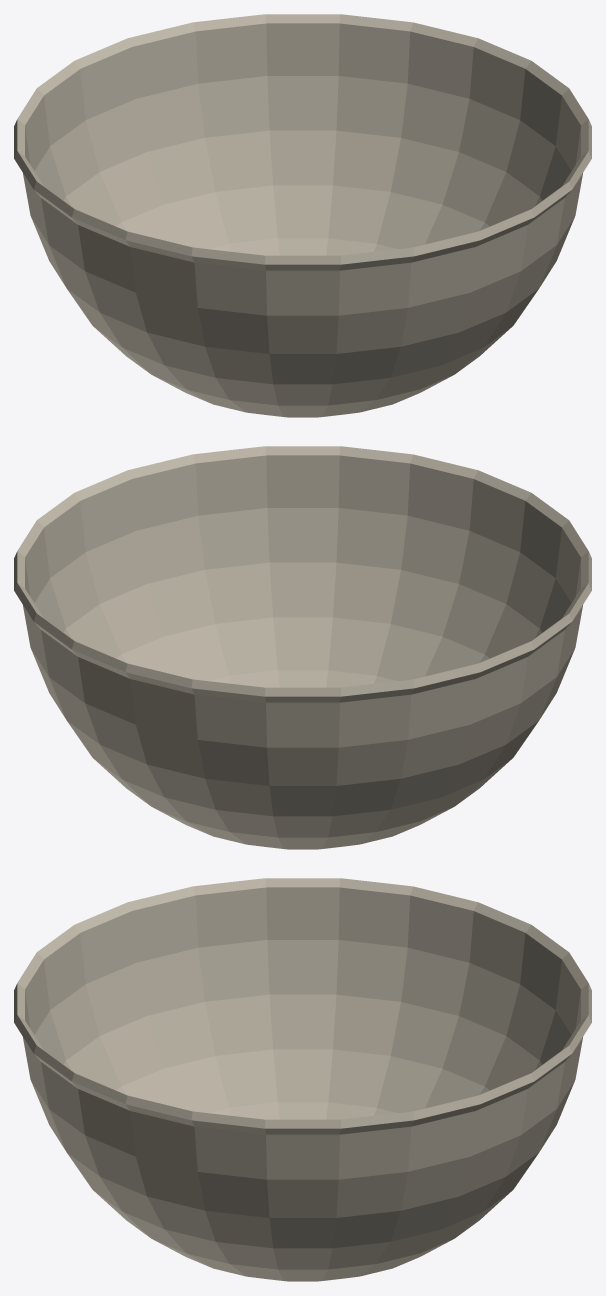
The model's file is SM_Cook_SteelBasin_01.fbx.
3 renders of one model, top to bottom at view 1: azimuth 30°, elevation 25°; view 2: azimuth 150°, elevation 25°; view 3: azimuth 270°, elevation 25°, orthographic.
Parts seen in each view (by area): view 1: SM_Cook_SteelBasin_01; view 2: SM_Cook_SteelBasin_01; view 3: SM_Cook_SteelBasin_01.
Part boxes in pixels (box(x1,y1,x2,y2)): SM_Cook_SteelBasin_01: box(14, 14, 591, 417); SM_Cook_SteelBasin_01: box(14, 446, 591, 849); SM_Cook_SteelBasin_01: box(14, 878, 591, 1281).
Bounding box in the file's own units: 0.2776 × 0.128 × 0.2776.
1 material, 1 textured.
